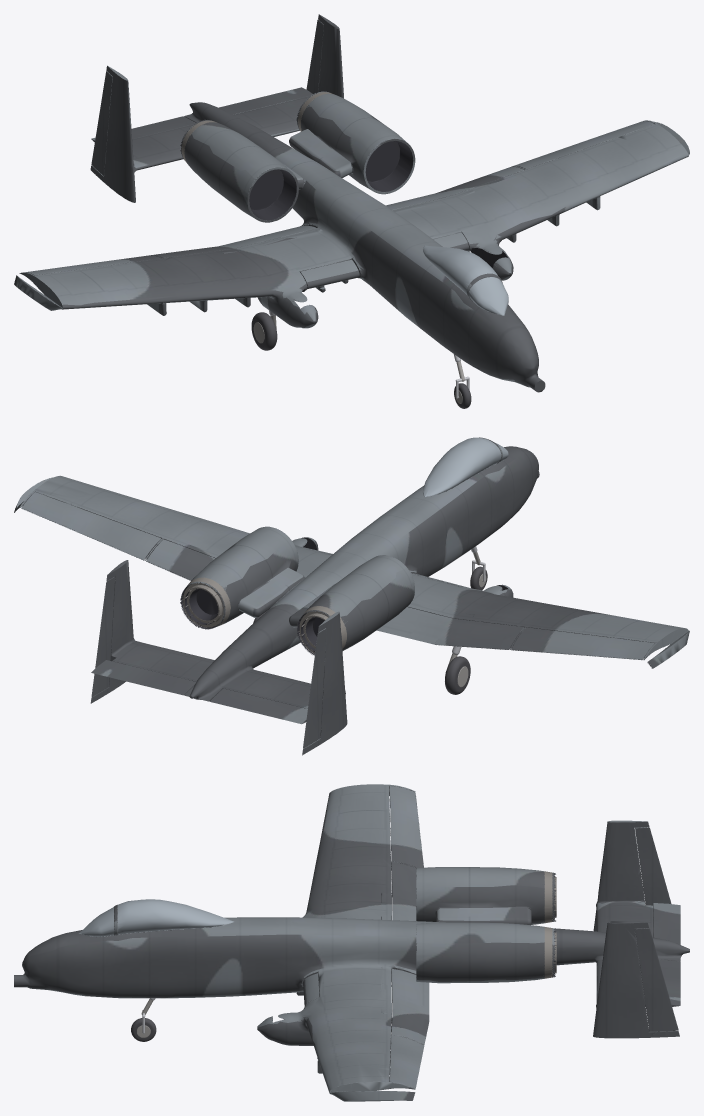
3 views of the same model, one above another, from view 1: azimuth 30°, elevation 25°; view 2: azimuth 150°, elevation 25°; view 3: azimuth 270°, elevation 25° (orthographic). The views are drawn at different scales.
Parts seen in each view (by area): view 1: airframe, fsim:flaps (×2), fsim:rudder (×2), fsim:aileron (×2), fsim:elevator (×2), fsim:lef@0,20, fsim:wheel:2:0.457; view 2: airframe, fsim:aileron (×2), fsim:flaps (×2), fsim:elevator (×2), fsim:rudder (×2), fsim:wheel:2:0.457; view 3: airframe, fsim:rudder (×2), fsim:flaps (×2), fsim:aileron (×2), fsim:elevator (×2).
Part boxes in pixels (x1=…): airframe: x1=14, y1=14, x2=689, y2=392; fsim:flaps (×2): x1=151, y1=167, x2=523, y2=258; fsim:rudder (×2): x1=91, y1=20, x2=323, y2=175; fsim:aileron (×2): x1=23, y1=121, x2=654, y2=275; fsim:elevator (×2): x1=91, y1=87, x2=312, y2=142; fsim:lef@0,20: x1=300, y1=259, x2=359, y2=288; fsim:wheel:2:0.457: x1=251, y1=312, x2=277, y2=350; airframe: x1=14, y1=437, x2=689, y2=755; fsim:aileron (×2): x1=21, y1=492, x2=654, y2=660; fsim:flaps (×2): x1=146, y1=539, x2=524, y2=649; fsim:elevator (×2): x1=91, y1=660, x2=307, y2=724; fsim:rudder (×2): x1=91, y1=576, x2=326, y2=748; fsim:wheel:2:0.457: x1=445, y1=656, x2=470, y2=694; airframe: x1=14, y1=784, x2=689, y2=1101; fsim:rudder (×2): x1=635, y1=827, x2=678, y2=1031; fsim:flaps (×2): x1=391, y1=862, x2=429, y2=1044; fsim:aileron (×2): x1=389, y1=786, x2=424, y2=1088; fsim:elevator (×2): x1=653, y1=903, x2=680, y2=1006.
Size of the model in its own units: 17.6 by 4.6 by 16.26.
7 materials, 1 textured.
